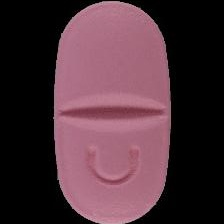68788-9719: (0, 0, 224, 224)
